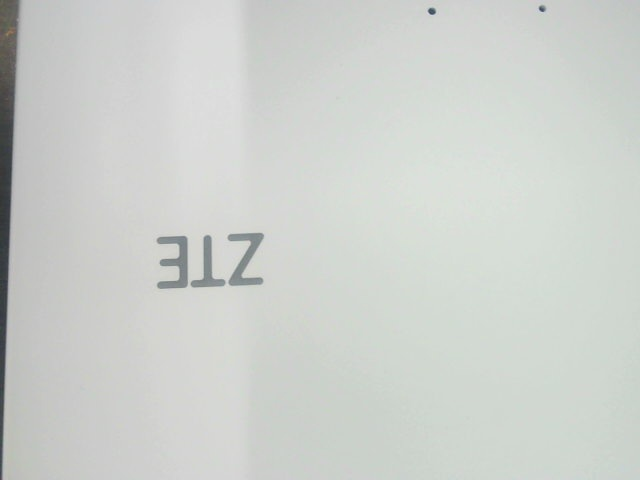AO_ZTESmall: (146, 221, 269, 305)
